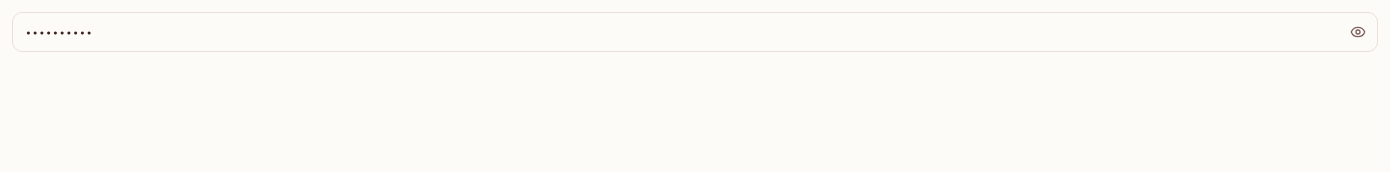
Campo de senha com olhinho › começa escondida e mostra a senha ao clicar no olhinho
Click the button named "Mostrar senha": click(1358, 32) [1346,20,1370,44]
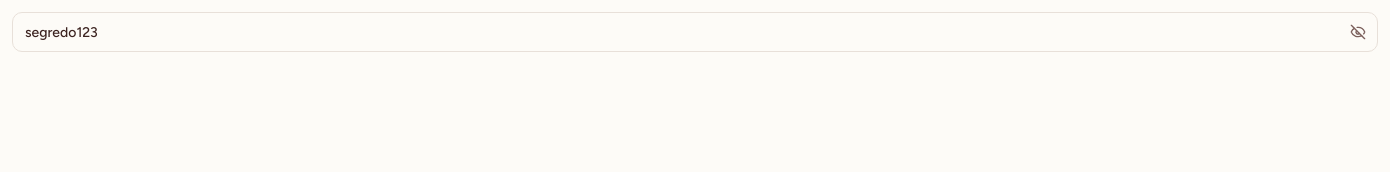
Expected: the field named "Senha mestra" holds "segredo123", [12,12,1378,52]
Expected: the field named "Senha mestra" shows its text, [12,12,1378,52]
Click the button named "Esconder senha": click(1358, 32) [1346,20,1370,44]
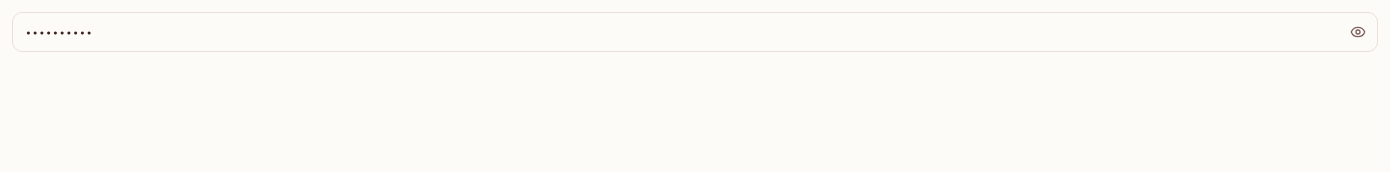
Expected: the password field named "Senha mestra" hides its text, [12,12,1378,52]
